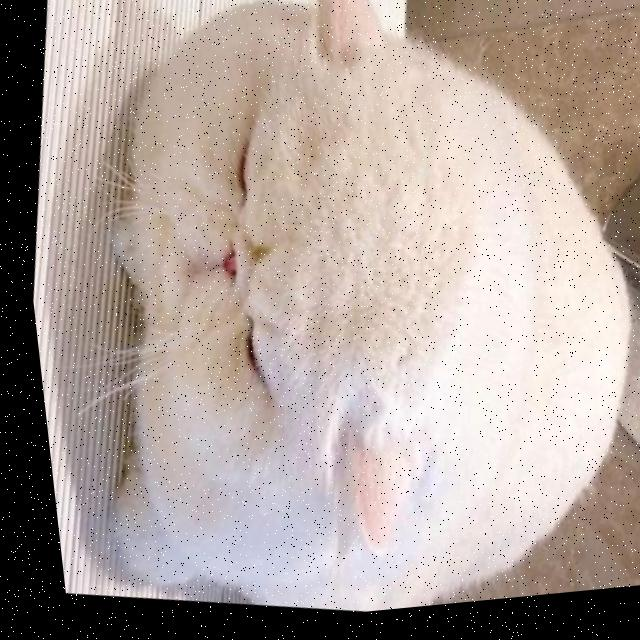Cats: (29, 0, 640, 638)
